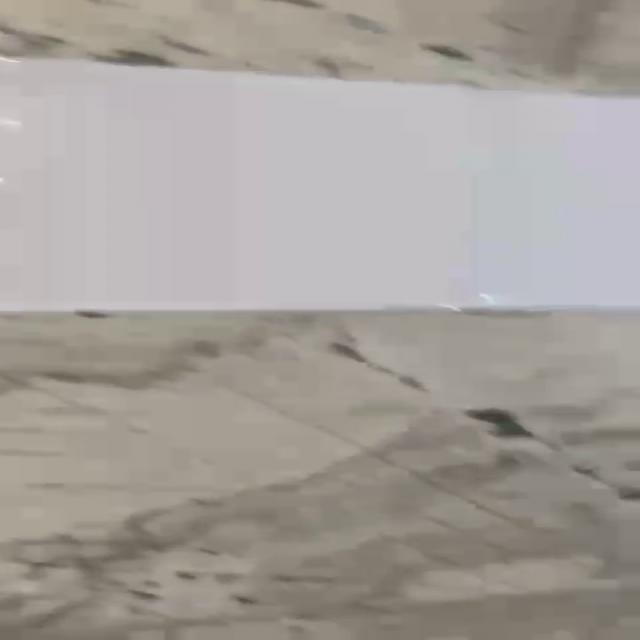road: (0, 57, 640, 311)
